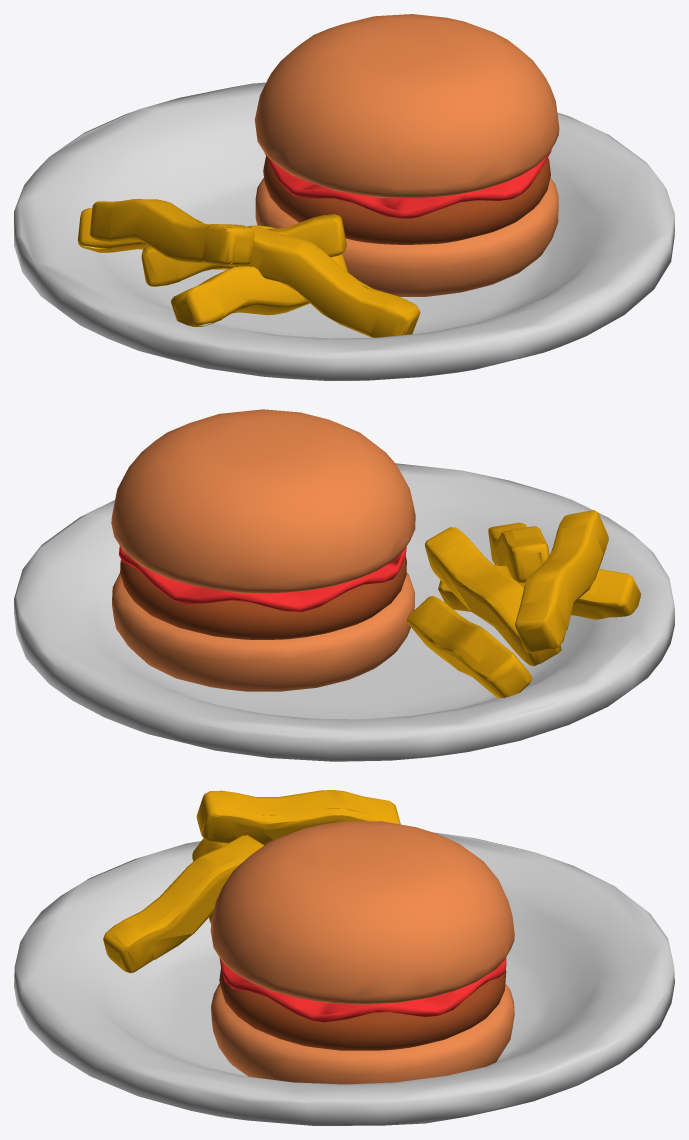
Rendered from burger.glb.
The picture shows the model from 3 angles, top to bottom: view 1: azimuth 30°, elevation 25°; view 2: azimuth 150°, elevation 25°; view 3: azimuth 270°, elevation 25°; orthographic projection.
Visible parts, largest first — view 1: 14 Dessert | Circle.001, Circle.033, potato_ALL, potato_single; view 2: 14 Dessert | Circle.001, Circle.033, potato_ALL, potato_single; view 3: 14 Dessert | Circle.001, Circle.033, potato_ALL.
Part boxes in pixels (<box>): 14 Dessert | Circle.001: <box>14,82,674,380</box>; Circle.033: <box>254,14,559,296</box>; potato_ALL: <box>89,199,420,337</box>; potato_single: <box>78,208,276,269</box>; 14 Dessert | Circle.001: <box>14,463,674,761</box>; Circle.033: <box>111,409,415,691</box>; potato_ALL: <box>425,510,641,666</box>; potato_single: <box>406,596,532,697</box>; 14 Dessert | Circle.001: <box>14,832,674,1125</box>; Circle.033: <box>210,821,514,1084</box>; potato_ALL: <box>103,790,400,973</box>.
Size of the model in its own units: 0.4834 by 0.1761 by 0.4835.
